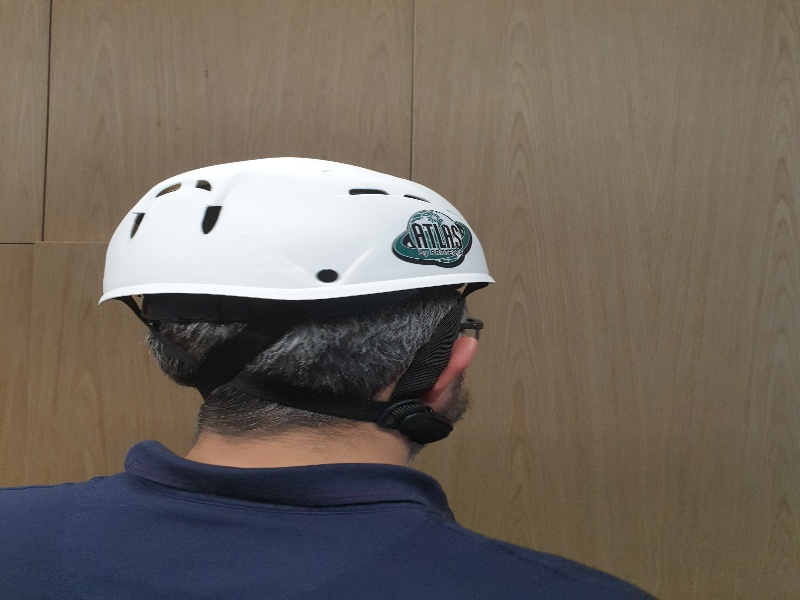Baret: (101, 156, 491, 302)
